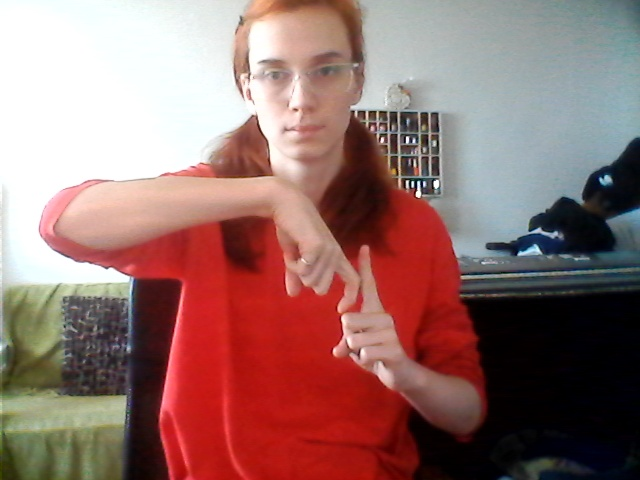k: (255, 171, 412, 399)
